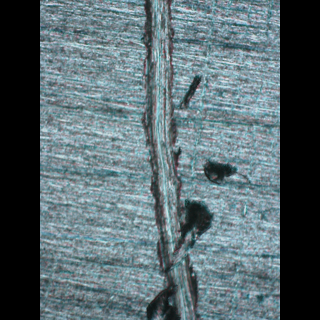d: (129, 0, 245, 319)
